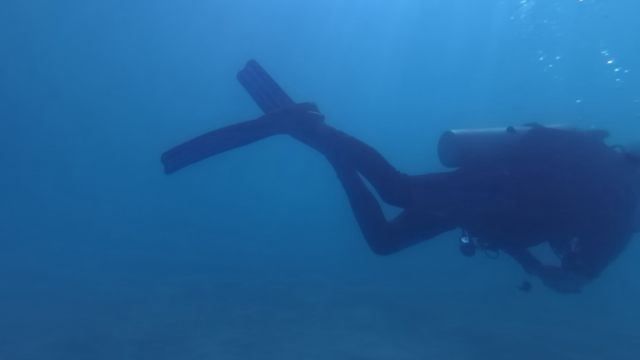Diver: (128, 39, 639, 302)
Hand: (533, 248, 569, 299), (552, 256, 591, 300)
